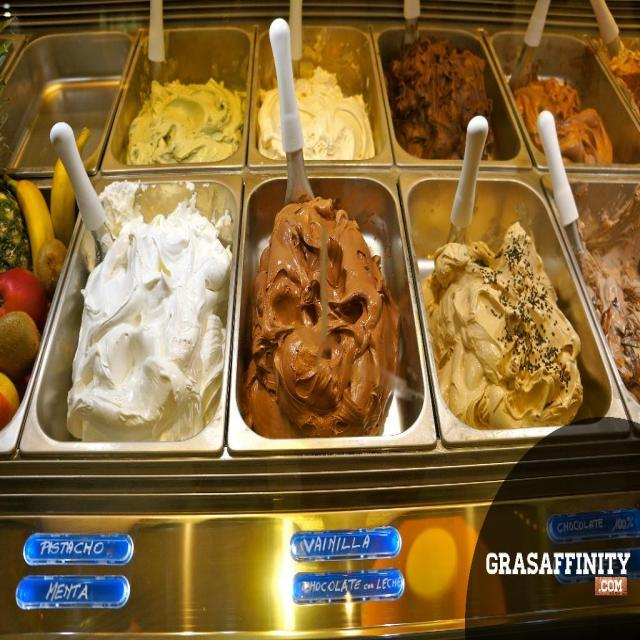Ice cream: (69, 191, 233, 439), (249, 197, 401, 441), (440, 219, 580, 430), (579, 183, 639, 408), (392, 38, 497, 162), (258, 66, 377, 162), (122, 76, 244, 168), (516, 76, 613, 172), (608, 49, 640, 119)
